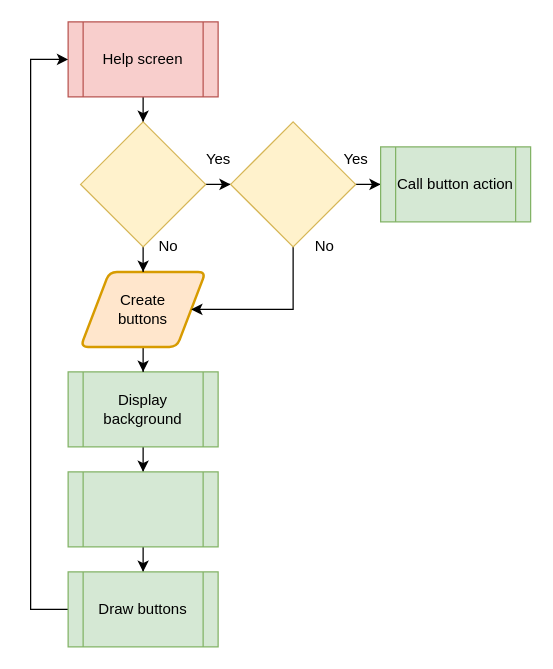
Image size: 553x669. Some labels were removed from this diagram. Here are the shapes that lost their labels. From the top down, the box of each, then its label:
(79, 121, 206, 247): Is mouse button pressed?
(229, 121, 356, 247): Is the cursor over the button
(67, 471, 218, 547): Display text
